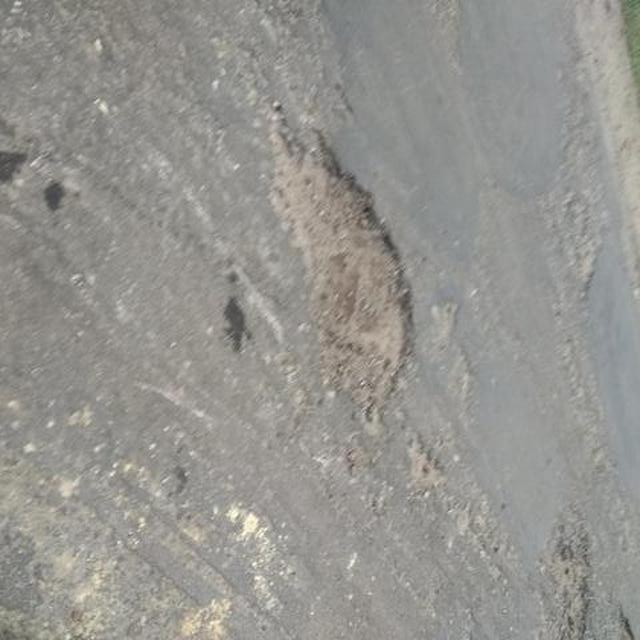pothole: (242, 159, 436, 404), (516, 534, 617, 640), (404, 428, 480, 511)
